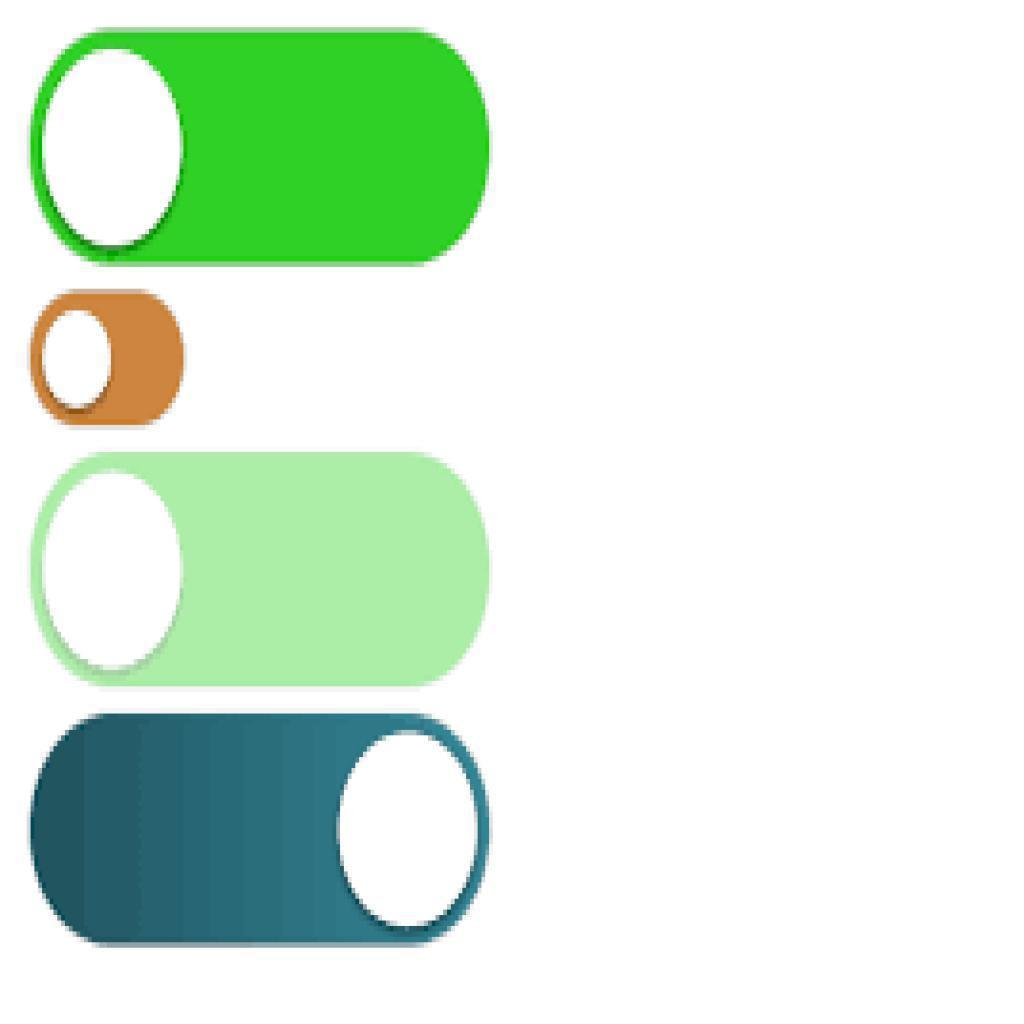switch: (24, 696, 494, 961), (25, 24, 504, 273), (24, 443, 497, 694), (23, 280, 203, 435)
